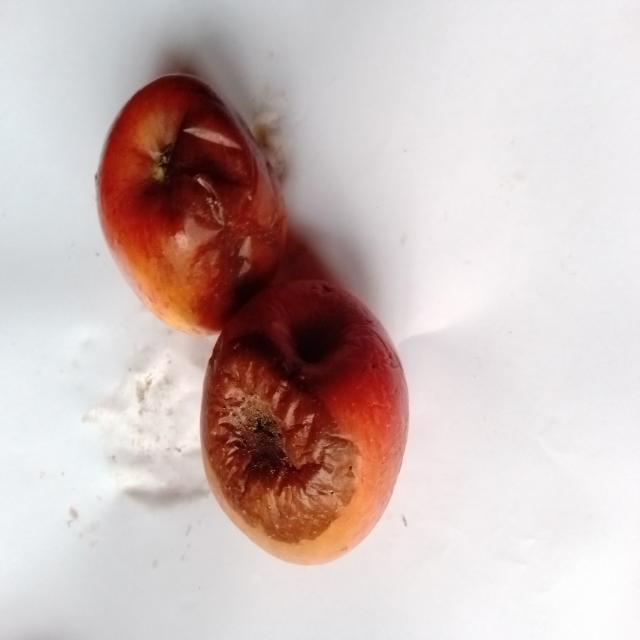apple: (202, 280, 407, 564), (97, 75, 285, 333)
